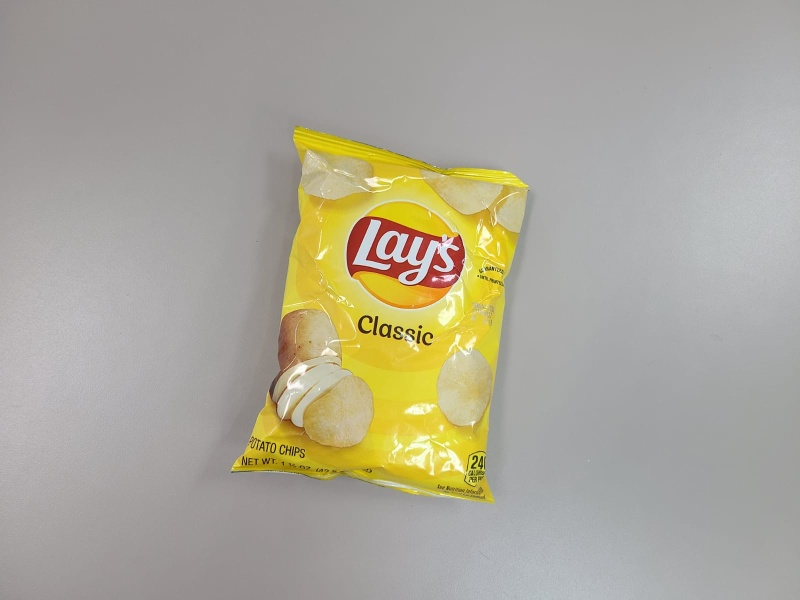lays: (232, 125, 532, 508)
